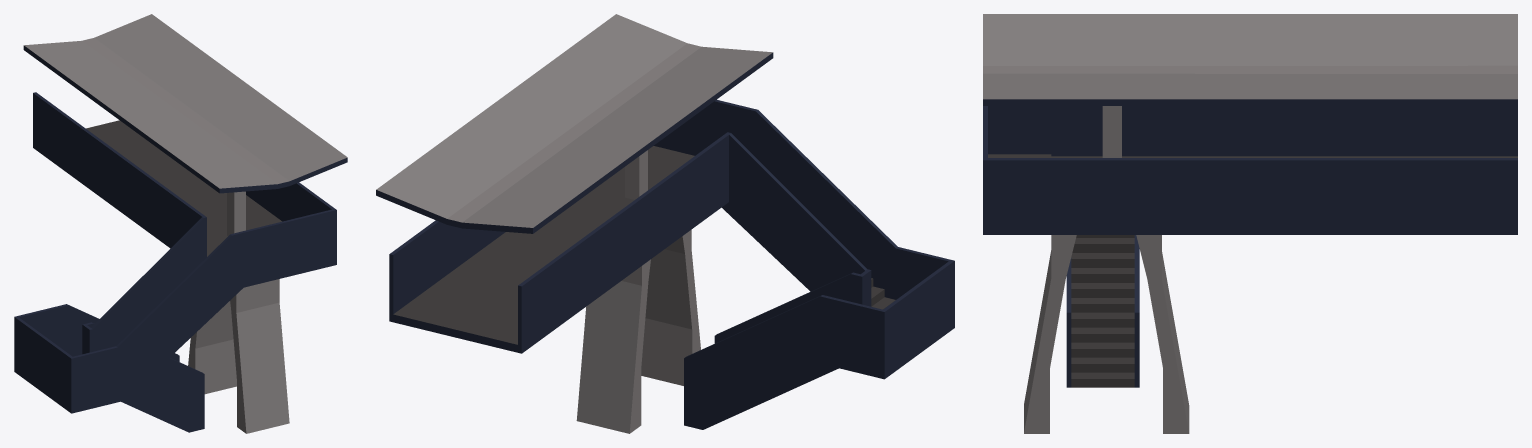
File: buildings-trainstation-oberpass-end.glb
3 views of the same model, side by side, from view 1: azimuth 30°, elevation 25°; view 2: azimuth 150°, elevation 25°; view 3: azimuth 270°, elevation 25° (orthographic). The views are drawn at different scales.
Visible parts, largest first — view 1: trainstation-oberpass-end; view 2: trainstation-oberpass-end; view 3: trainstation-oberpass-end.
Boxes of the visible parts, x1,y1,x2,y2 form: trainstation-oberpass-end: (14,14,347,433); trainstation-oberpass-end: (376,14,954,433); trainstation-oberpass-end: (983,14,1517,433).
Bounding box in the file's own units: 8.95 × 8.25 × 10.99.
